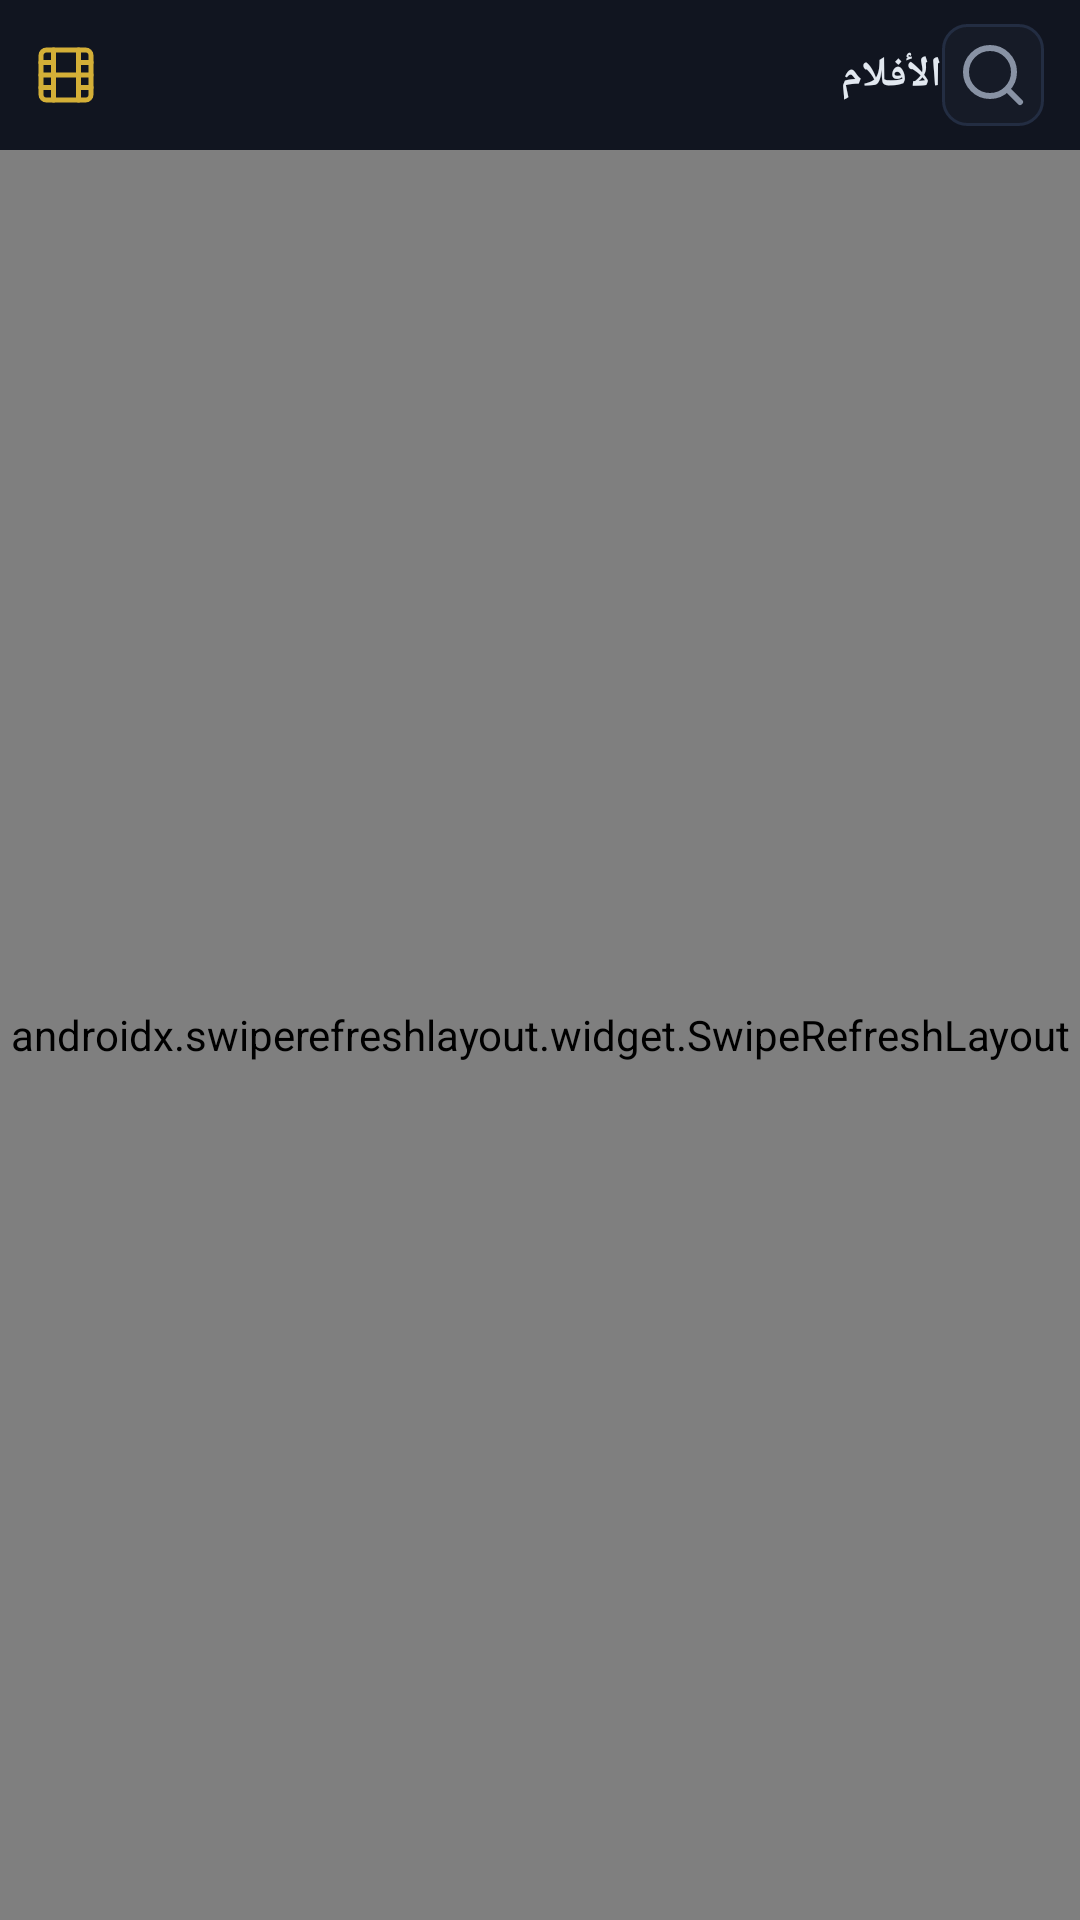

Named icons in this screenshot (1080px x 1920px) and their bounding boxes, [x1=x1, y1=y1, x2=x2, y2=y2]:
film: [x1=38, y1=47, x2=94, y2=103]
بحث: [x1=942, y1=24, x2=1044, y2=126]
